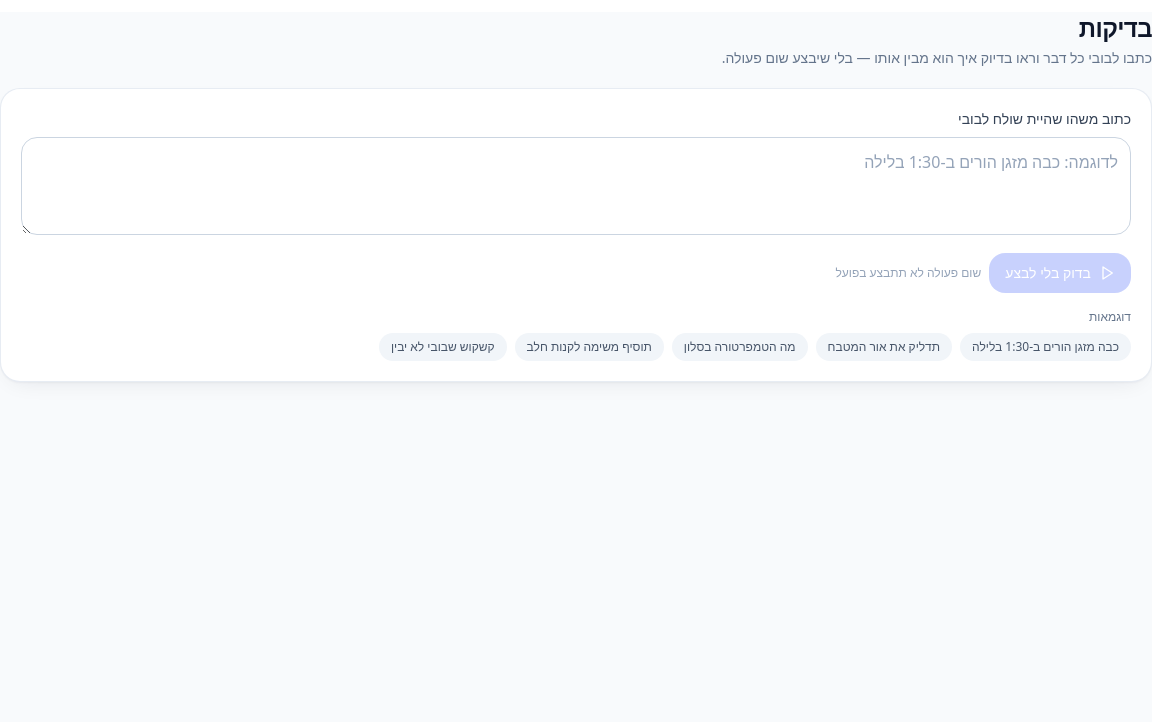
TestCenterPage › reports a request the bridge did not understand
In the text box labelled "כתוב משהו שהיית שולח לבובי": (576, 186) [21,137,1131,235], type "קשקוש"
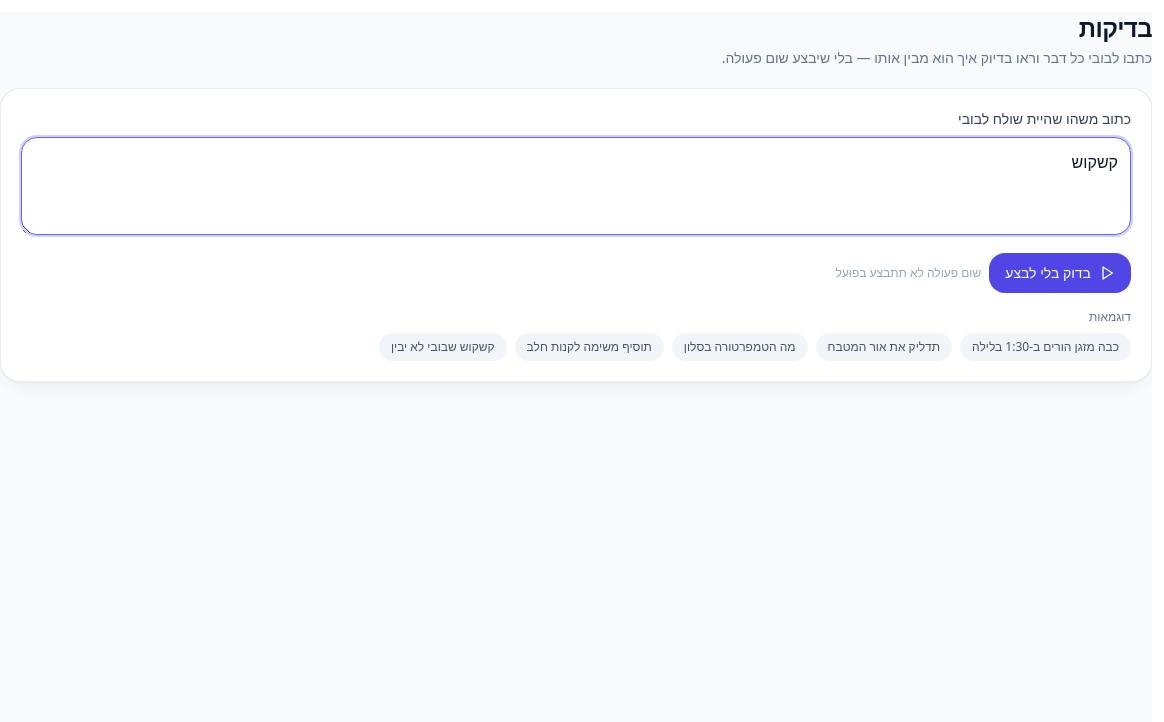
Click the button "בדוק בלי לבצע": (1060, 273) [989,253,1131,293]
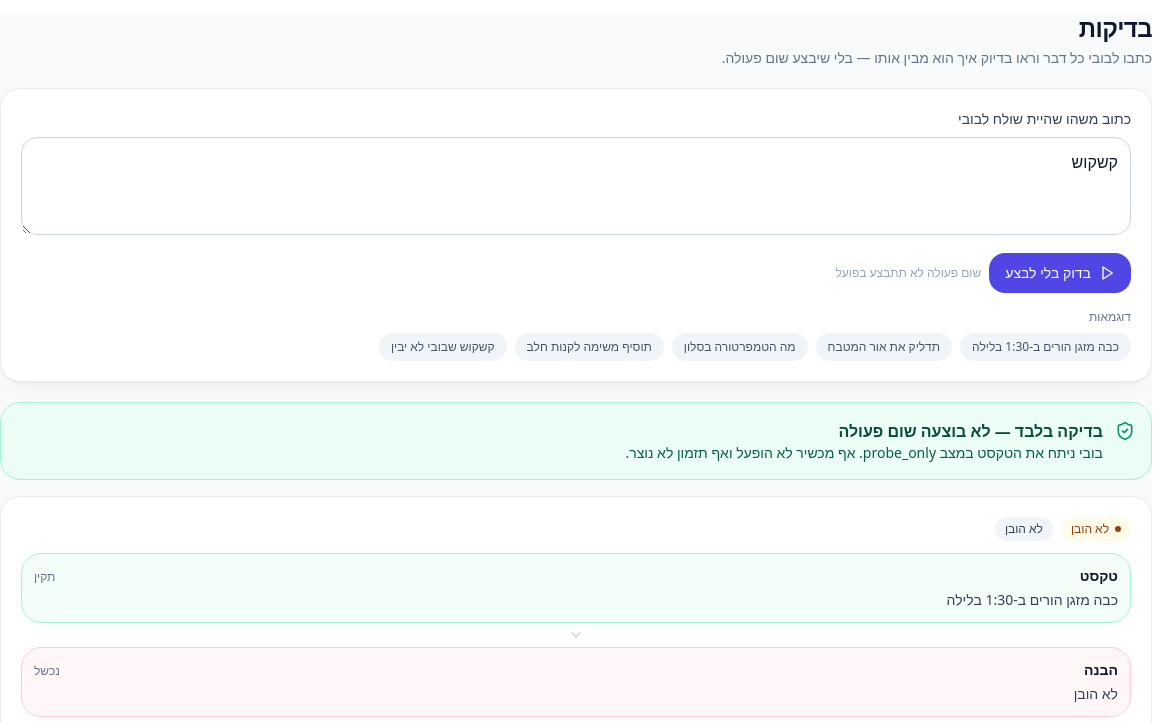
Result: the text "לא הובן" is shown at [1061,517,1131,541]
Result: the text "בדיקה בלבד — לא בוצעה שום פעולה" is shown at [838,420,1103,442]
